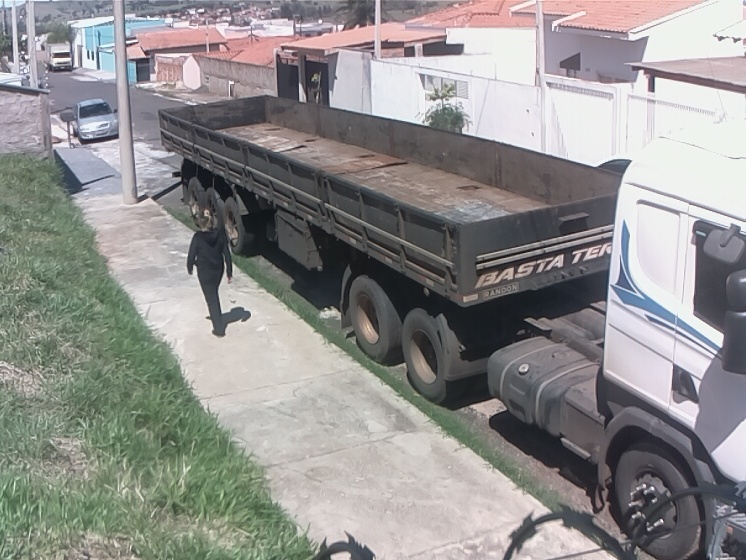person: (186, 204, 239, 338)
